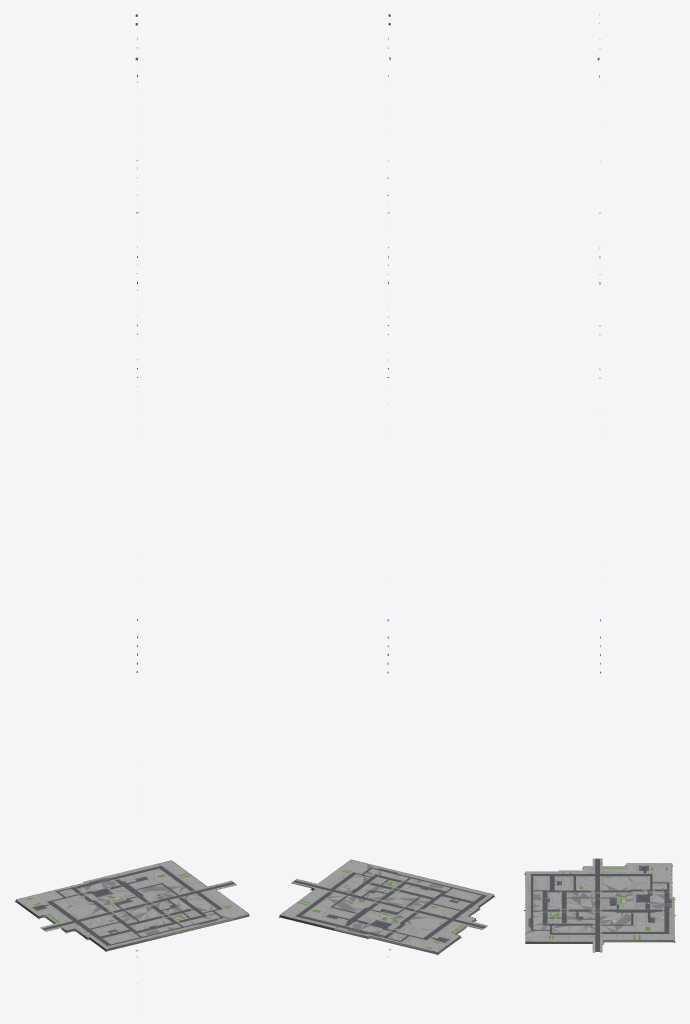
The model's file is city.glb.
3 renders of one model, left to right at view 1: azimuth 30°, elevation 25°; view 2: azimuth 150°, elevation 25°; view 3: azimuth 270°, elevation 25°, orthographic.
Visible parts, largest first — view 1: mesh_103; view 2: mesh_103; view 3: mesh_103.
Part boxes in pixels (x1=…): mesh_103: x1=15, y1=860, x2=249, y2=951; mesh_103: x1=278, y1=859, x2=495, y2=955; mesh_103: x1=524, y1=858, x2=675, y2=952.
Bounding box in the file's own units: 464 × 2301 × 318.
20 materials, 20 textured.
